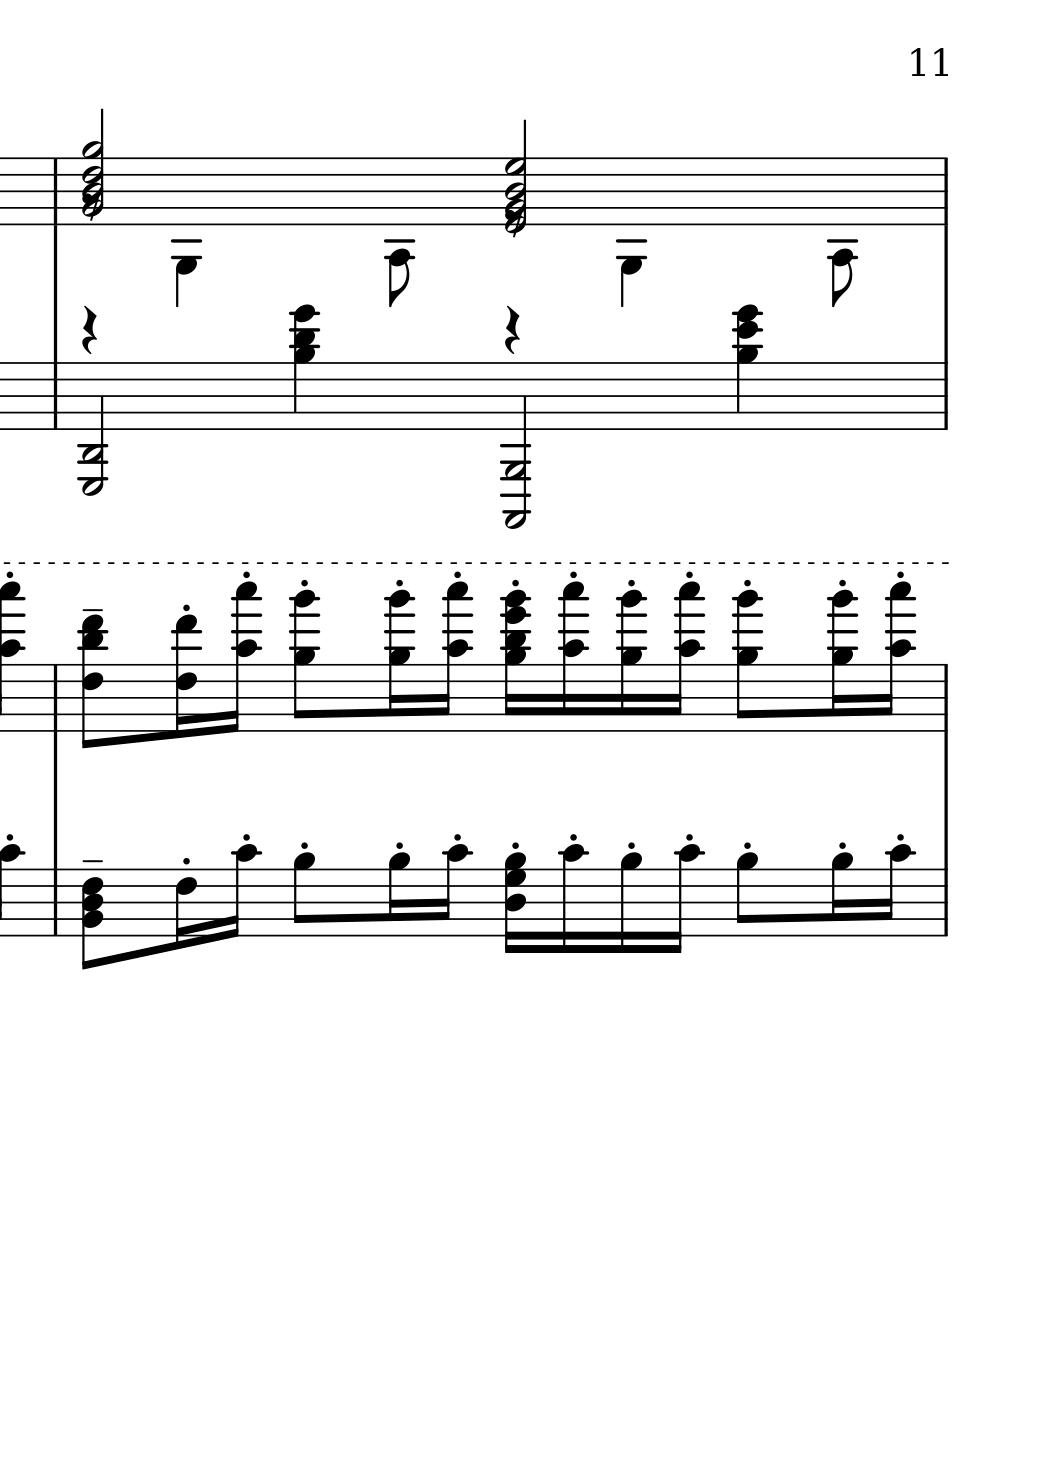1: (930, 45, 950, 80), (908, 45, 926, 80)
16_10: (666, 843, 703, 956), (879, 843, 916, 939), (224, 843, 259, 942), (557, 842, 587, 956), (437, 843, 468, 943)
16_10_17: (222, 580, 262, 733), (436, 581, 475, 733), (880, 580, 916, 733), (671, 581, 706, 733), (559, 581, 590, 734)
16_4th: (500, 586, 530, 733)
16_6: (173, 867, 197, 951)
16_6_13: (172, 614, 201, 740)
16_9: (618, 850, 642, 956), (829, 851, 854, 939), (386, 851, 410, 939)
16_9_16: (827, 589, 861, 732), (384, 589, 415, 733), (616, 589, 646, 733)
16_th: (501, 850, 530, 954)
2_-7_-3: (77, 361, 108, 497)
2_4th: (78, 105, 107, 233), (503, 116, 530, 239)
4_-5: (173, 158, 201, 305), (618, 156, 645, 304)
4_th: (731, 301, 764, 434), (288, 301, 320, 429)
8_-4: (384, 158, 415, 307), (827, 158, 858, 307)
8_9: (291, 851, 316, 940), (734, 851, 759, 940)
8_9_16: (289, 589, 322, 734), (733, 588, 763, 733)
8_th: (77, 615, 108, 752), (79, 866, 107, 973)
Rests4: (502, 304, 522, 355), (79, 304, 97, 355)
Single_barline: (46, 361, 63, 429), (46, 665, 63, 732), (937, 869, 954, 936), (937, 664, 953, 732), (46, 868, 62, 936), (46, 158, 62, 224), (937, 158, 953, 224), (937, 363, 953, 429)
